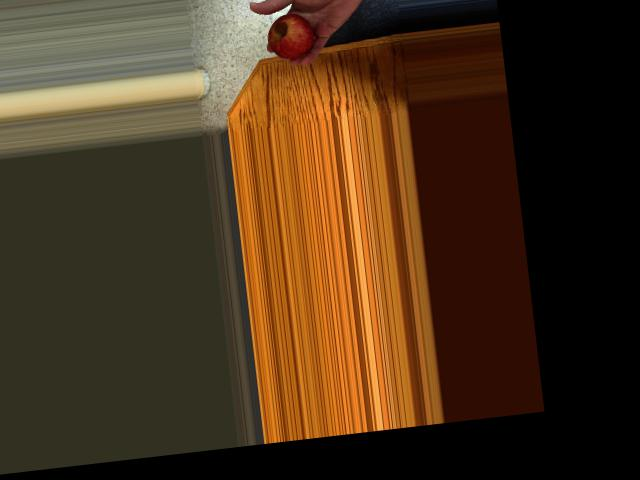apple: (262, 10, 325, 63)
